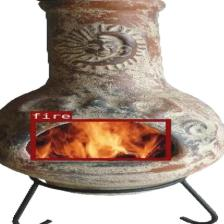fire: (30, 119, 170, 160)
